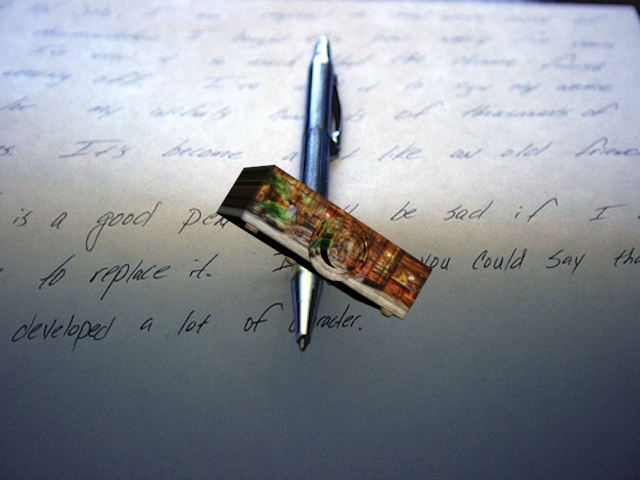projector: (215, 160, 440, 321)
